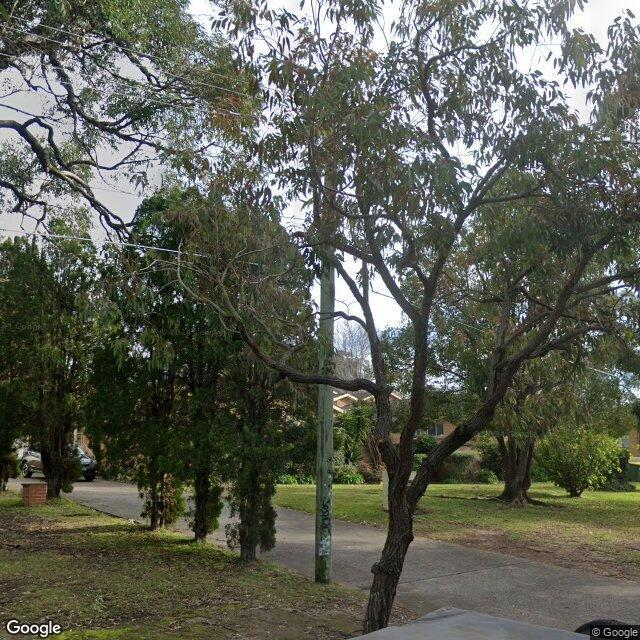timber-pole: (316, 171, 336, 584)
